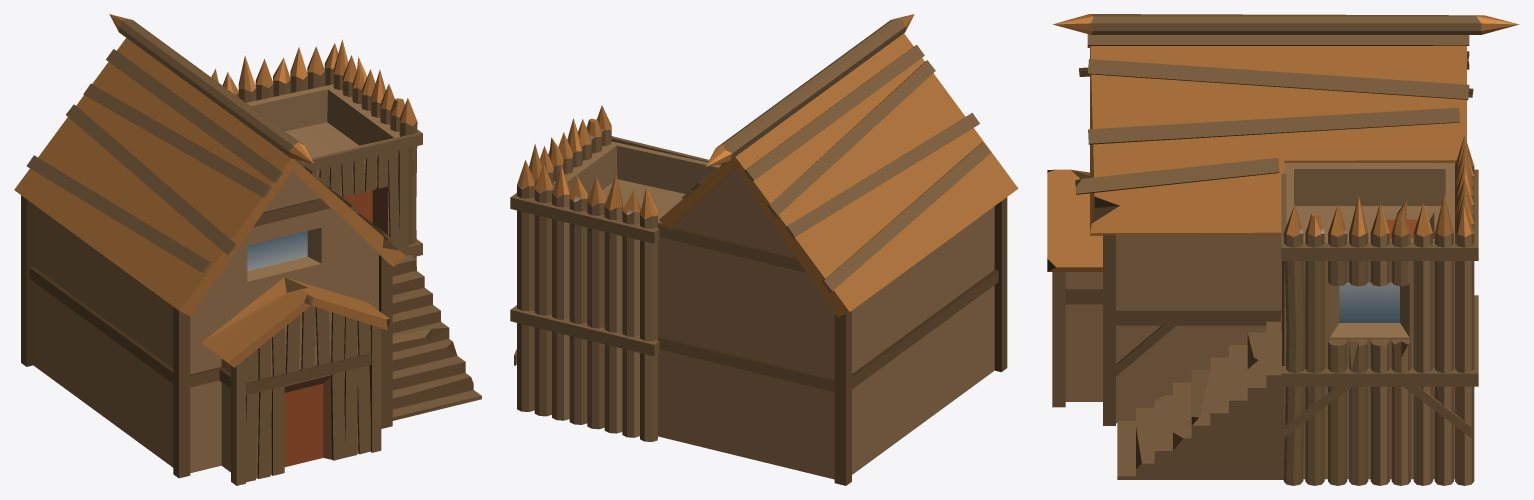
The model's file is Level1_WoodCastle.fbx.
The picture shows the model from 3 angles, left to right: view 1: azimuth 30°, elevation 25°; view 2: azimuth 150°, elevation 25°; view 3: azimuth 270°, elevation 25°; orthographic projection. The views are drawn at different scales.
Visible parts, largest first — view 1: Cube.003; view 2: Cube.003; view 3: Cube.003.
Boxes of the visible parts, x1,y1,x2,y2 form: Cube.003: [14, 14, 481, 485]; Cube.003: [510, 14, 1018, 485]; Cube.003: [1047, 14, 1519, 485].
Size of the model in its own units: 1200 by 1092 by 1314.
